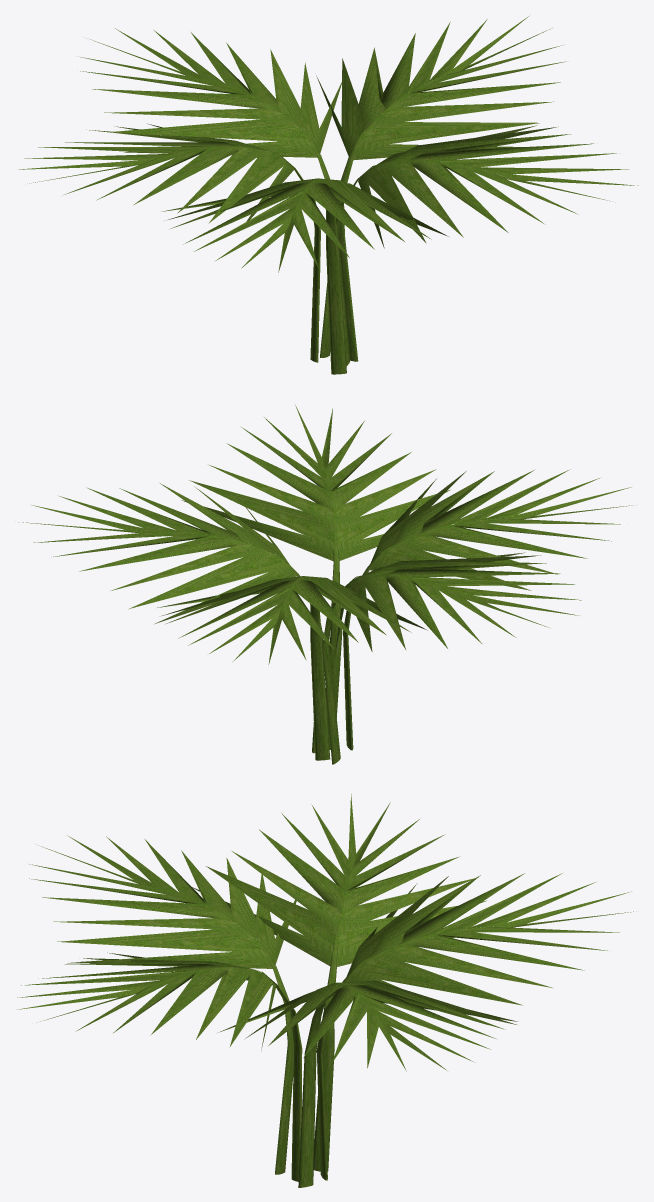
Rendered from PalmBush.fbx.
3 views of the same model, one above another, from view 1: azimuth 30°, elevation 25°; view 2: azimuth 150°, elevation 25°; view 3: azimuth 270°, elevation 25° (orthographic). The views are drawn at different scales.
Visible parts, largest first — view 1: Palm002, Palm005, Palm003, Palm004, Palm006; view 2: Palm003, Palm004, Palm002, Palm006, Palm005; view 3: Palm006, Palm005, Palm004, Palm002, Palm003.
Boxes of the visible parts, x1,y1,x2,y2 form: Palm002: (316,16,566,361); Palm005: (80,28,341,357); Palm003: (336,125,638,365); Palm004: (162,178,448,374); Palm006: (18,123,320,362); Palm003: (181,405,450,749); Palm004: (343,469,632,750); Palm002: (19,483,322,753); Palm006: (322,552,581,764); Palm005: (157,576,427,760); Palm006: (192,794,486,1171); Palm005: (316,873,633,1180); Palm004: (29,835,296,1174); Palm002: (218,980,518,1187); Palm003: (16,952,302,1181).
Bounding box in the file's own units: 75.74 × 30.4 × 71.23.
